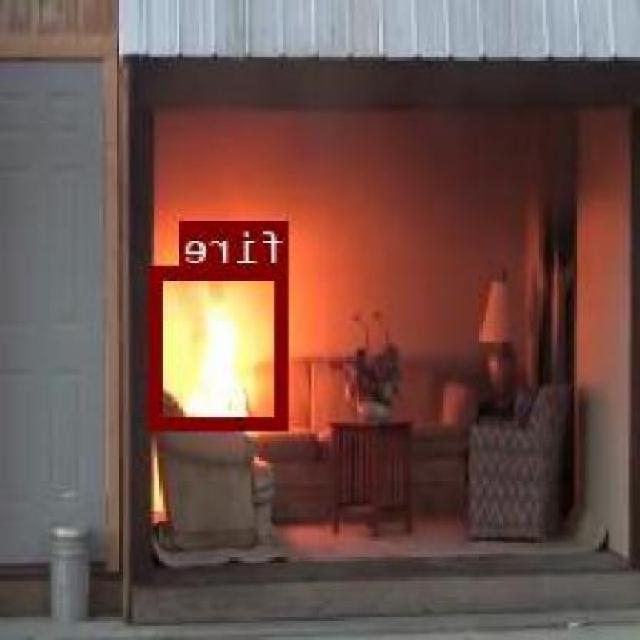Fire: (152, 263, 290, 426)
